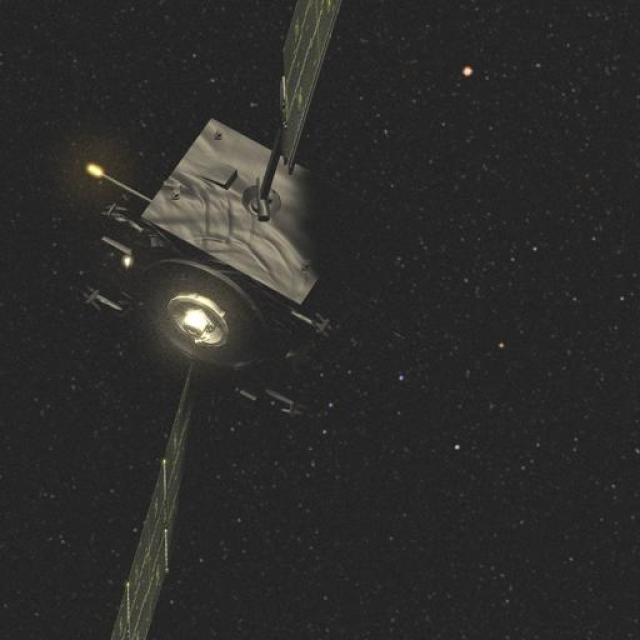smart_1: (86, 115, 380, 411)
